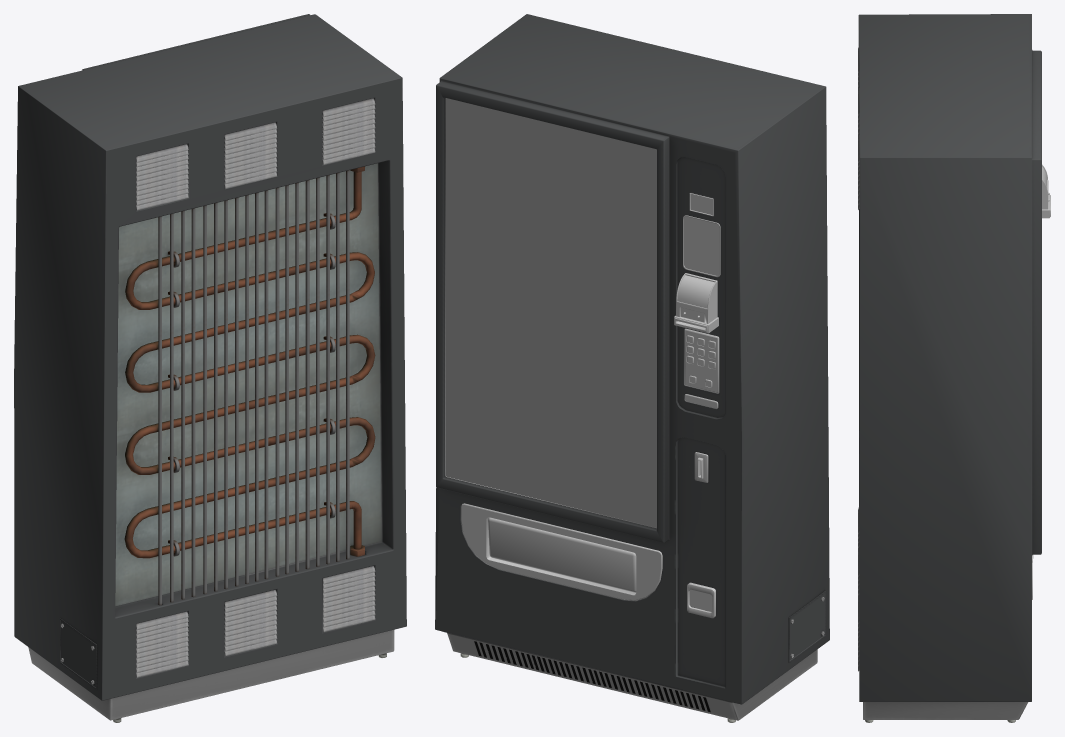
Rendered from avt.fbx.
3 views of the same model, side by side, from view 1: azimuth 30°, elevation 25°; view 2: azimuth 150°, elevation 25°; view 3: azimuth 270°, elevation 25° (orthographic).
Visible parts, largest first — view 1: polySurface322, polySurface313, polySurface314, polySurface311, polySurface315, polySurface310, polySurface312, polySurface282, polySurface278, polySurface271, polySurface279, polySurface286 (+14 smaller); view 2: polySurface322, pCube413, nk1:pCube429, polySurface362; view 3: polySurface322, nk1:pCube429.
Boxes of the visible parts, box(x1,y1,x2,y2) form: polySurface322: box(14, 14, 406, 720); polySurface313: box(322, 98, 375, 164); polySurface314: box(224, 122, 277, 188); polySurface311: box(224, 590, 277, 655); polySurface315: box(136, 144, 188, 210); polySurface310: box(136, 611, 188, 677); polySurface312: box(323, 566, 375, 631); polySurface282: box(305, 180, 309, 569); polySurface278: box(264, 190, 268, 579); polySurface271: box(191, 208, 195, 597); polySurface279: box(275, 187, 279, 576); polySurface286: box(346, 170, 349, 559); polySurface322: box(435, 14, 829, 720); pCube413: box(446, 98, 656, 527); nk1:pCube429: box(461, 193, 720, 618); polySurface362: box(474, 641, 710, 712); polySurface322: box(858, 14, 1041, 719); nk1:pCube429: box(1032, 164, 1050, 599).
Size of the model in its own units: 5.94 by 10.71 by 3.27.
